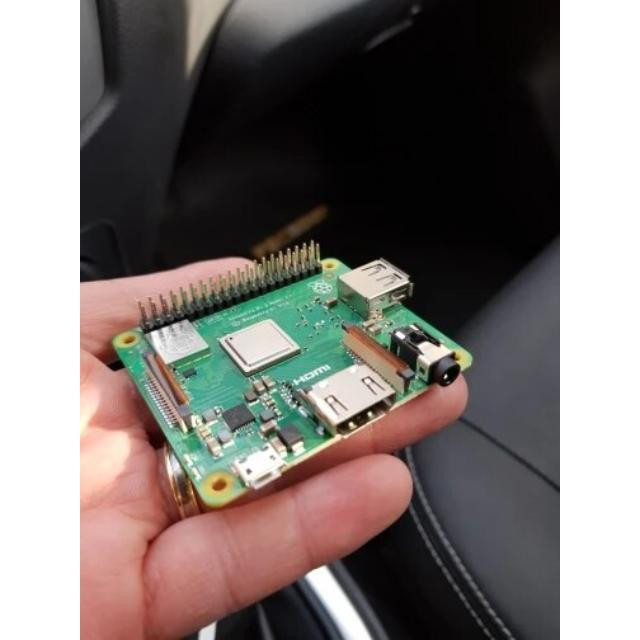Raspberry-Pi-3-A-: (115, 244, 472, 506)
